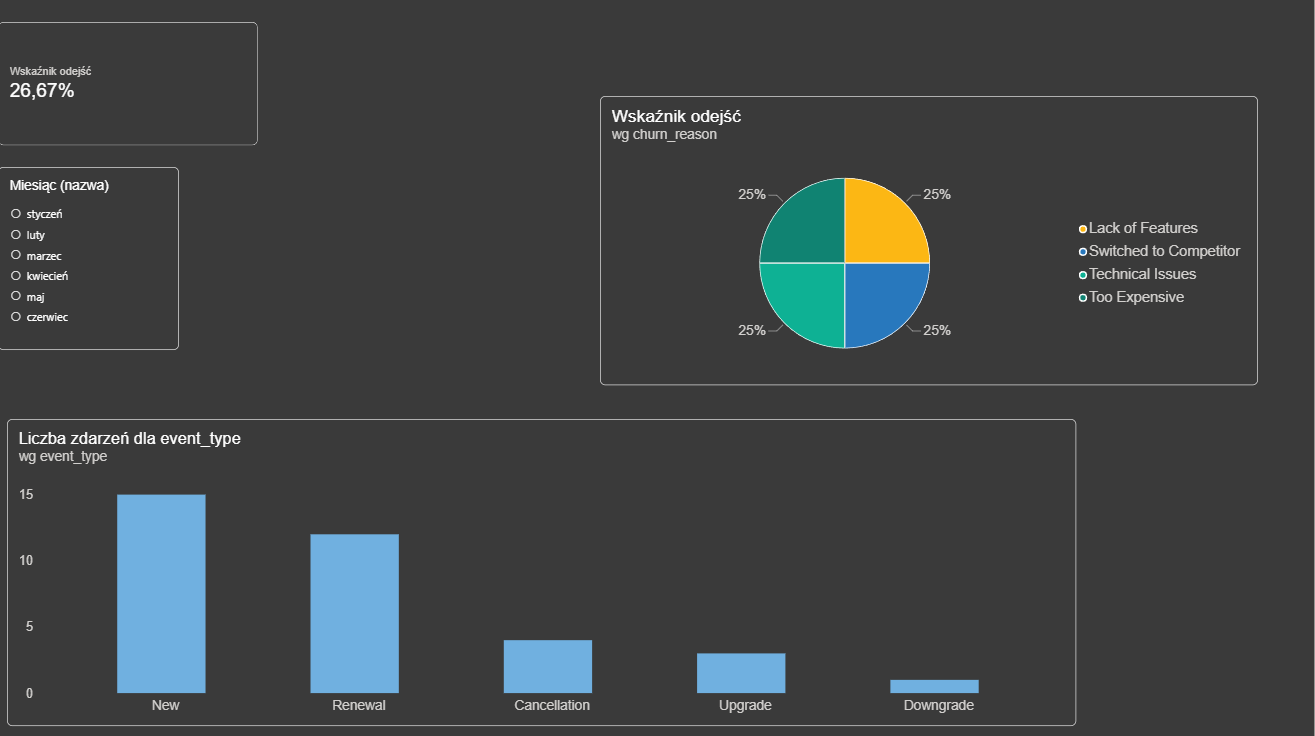

What the dashboard file says about the page in this screenshot:
{"tool":"powerbi","page":{"name":"Analiza Klientów i Odejść","canvas":[1920,1080],"ordinal":1},"visuals":[{"type":"cardVisual","fields":{"Data":["_Miary.Wskaźnik odejść"]},"box":[0,36.5,379.3,180.9],"z":0},{"type":"pieChart","fields":{"Category":["fact_subscriptions.churn_reason"],"Y":["_Miary.Wskaźnik odejść"]},"box":[878.3,144.4,960,421.6],"z":1},{"type":"listSlicer","fields":{"Values":["Kalendarz.Miesiąc (nazwa)"]},"box":[0,248,264.1,267],"z":2},{"type":"clusteredColumnChart","fields":{"Category":["fact_subscriptions.event_type"],"Y":["_Miary.Liczba zdarzeń dla event_type"]},"box":[13.1,615.7,1559.6,447.9],"z":3}]}

Visuals, with their boxes in screenshot pixels (x1, y1, x2, y2), scaled from the page's 1920x1080 canvas onto the 1315x736 screenshot:
cardVisual - _Miary.Wskaźnik odejść: [x1=0, y1=25, x2=260, y2=148]
pieChart - fact_subscriptions.churn_reason x _Miary.Wskaźnik odejść: [x1=602, y1=98, x2=1259, y2=386]
listSlicer - Kalendarz.Miesiąc (nazwa): [x1=0, y1=169, x2=181, y2=351]
clusteredColumnChart - fact_subscriptions.event_type x _Miary.Liczba zdarzeń dla event_type: [x1=9, y1=420, x2=1077, y2=725]
